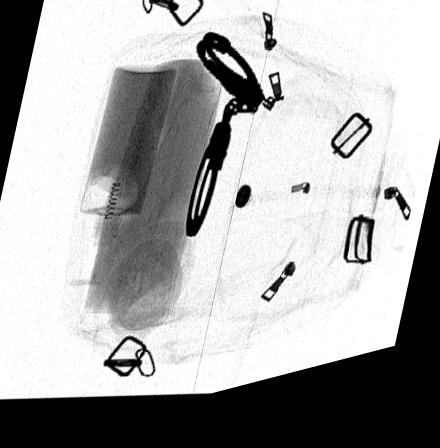HandCuffs: (185, 41, 265, 245)
